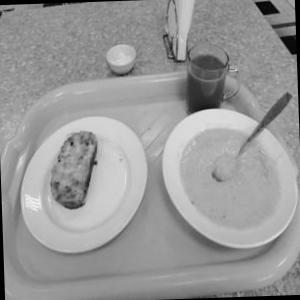cheese_sandwich: (42, 125, 112, 228)
coffee: (183, 32, 236, 129)
porridge: (176, 119, 289, 237)
